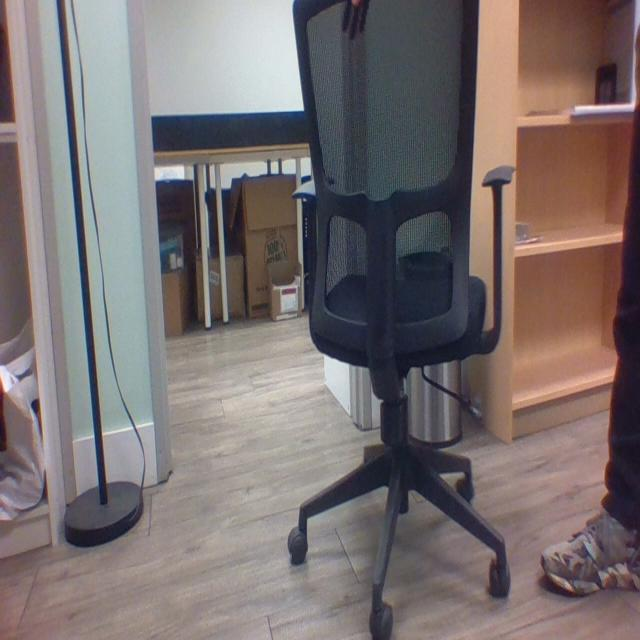chair: (290, 4, 518, 640)
